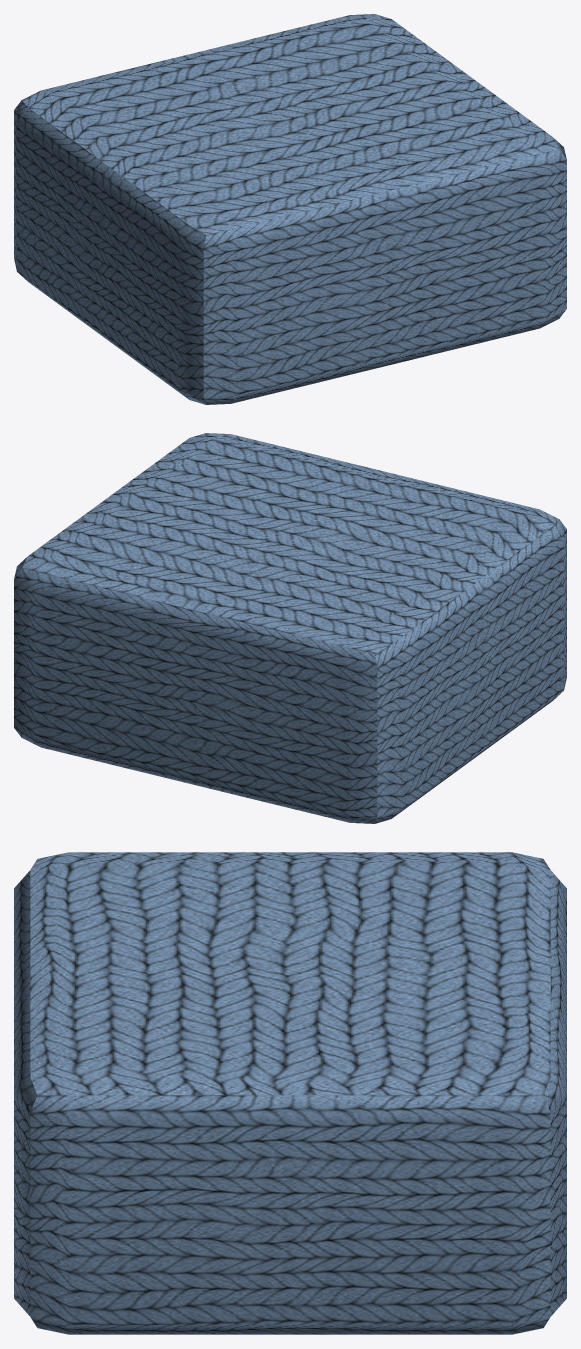
Rendered from yarnPlatformB.fbx.
3 renders of one model, top to bottom at view 1: azimuth 30°, elevation 25°; view 2: azimuth 150°, elevation 25°; view 3: azimuth 270°, elevation 25°, orthographic. The views are drawn at different scales.
Parts seen in each view (by area): view 1: yarnPlatformB1; view 2: yarnPlatformB1; view 3: yarnPlatformB1.
Part boxes in pixels (bbox=[...]): yarnPlatformB1: bbox=[14, 14, 566, 404]; yarnPlatformB1: bbox=[14, 433, 566, 823]; yarnPlatformB1: bbox=[14, 852, 566, 1334].
Bounding box in the file's own units: 1.67 × 0.7678 × 1.51.
Materials: 1 (1 with a texture image).
